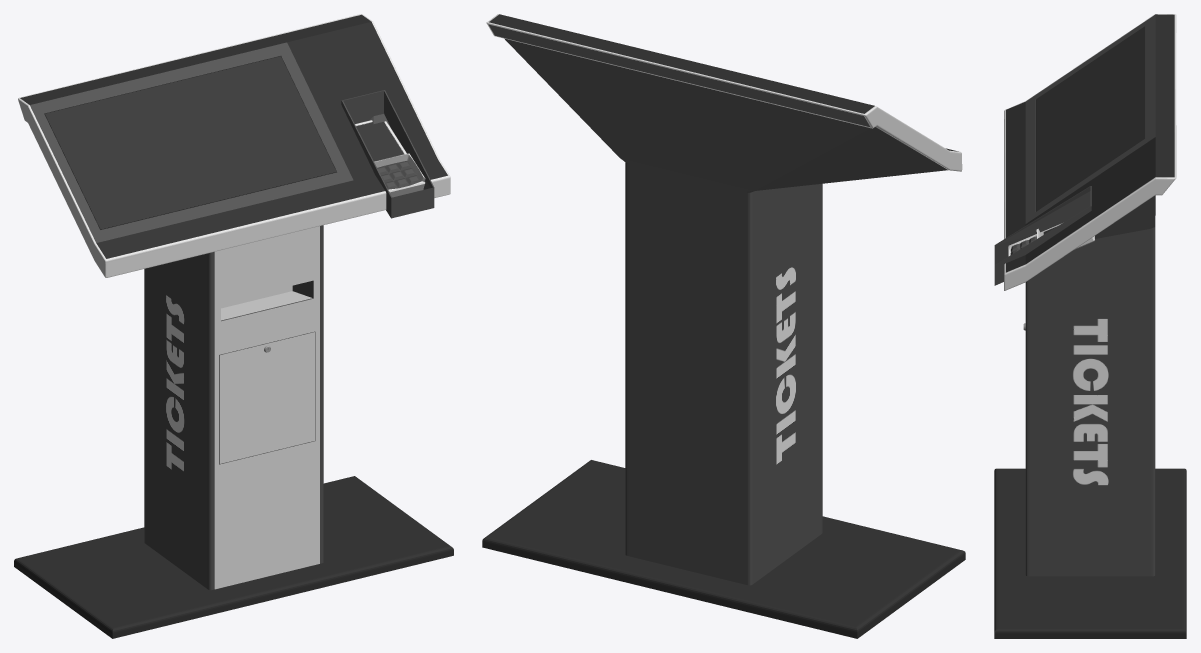
Rendered from Ticket Machine.dae.
3 views of the same model, side by side, from view 1: azimuth 30°, elevation 25°; view 2: azimuth 150°, elevation 25°; view 3: azimuth 270°, elevation 25° (orthographic). The views are drawn at different scales.
Parts seen in each view (by area): view 1: Cube; view 2: Cube; view 3: Cube.
Boxes of the visible parts, box(x1,y1,x2,y2) form: Cube: box(14, 14, 453, 638); Cube: box(482, 14, 965, 638); Cube: box(994, 14, 1186, 638).
Bounding box in the file's own units: 4.05 × 2 × 5.3.
Materials: 7 (7 with a texture image).
